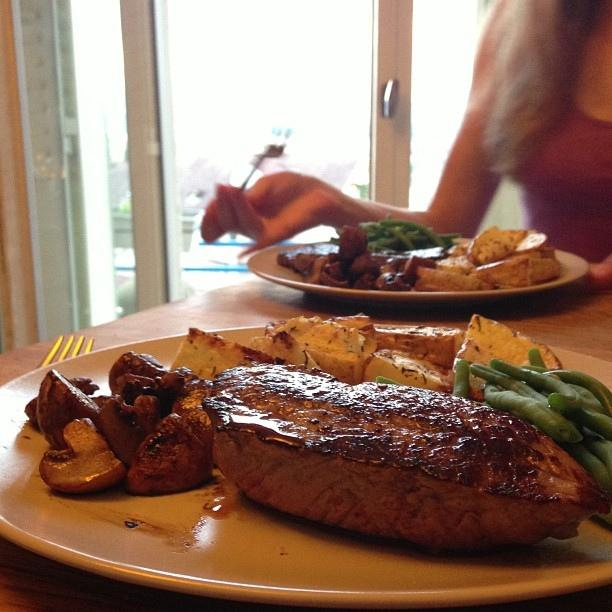green bean: (484, 381, 584, 443), (470, 363, 571, 419), (490, 358, 582, 414), (542, 370, 612, 416), (572, 422, 612, 472), (380, 221, 445, 246), (377, 232, 461, 248), (371, 225, 416, 249), (454, 360, 469, 399), (384, 229, 395, 238), (368, 232, 377, 241)
mushroom: (40, 418, 129, 494), (36, 369, 102, 450), (92, 396, 156, 468), (25, 377, 100, 426), (110, 351, 168, 396), (346, 250, 382, 286), (312, 257, 350, 289), (376, 272, 412, 290), (353, 272, 378, 290)
potato: (249, 312, 378, 386), (456, 314, 564, 402), (170, 327, 274, 379), (373, 324, 464, 371), (360, 348, 455, 393), (475, 253, 561, 288), (466, 226, 528, 267), (414, 266, 494, 292), (512, 232, 549, 257), (436, 254, 476, 276)
